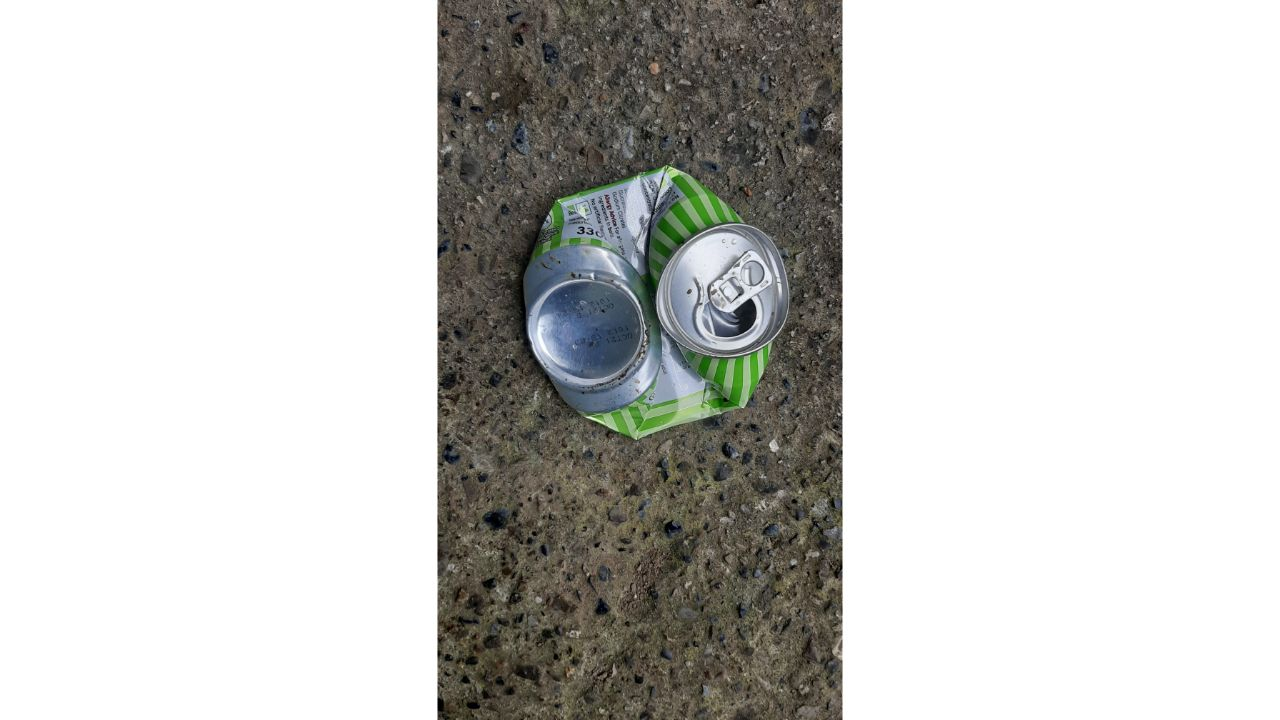Can: (522, 166, 789, 444)
